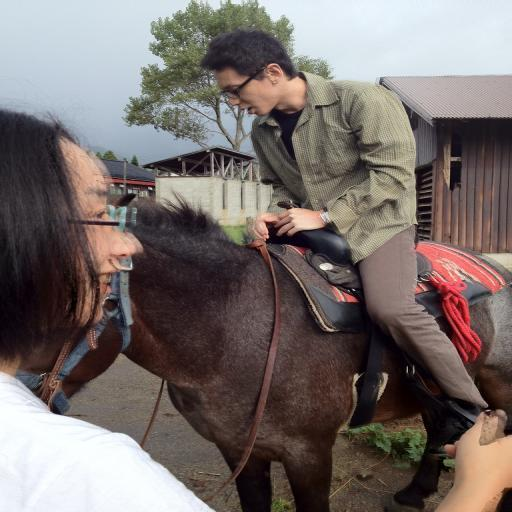Horse: (22, 189, 512, 511)
